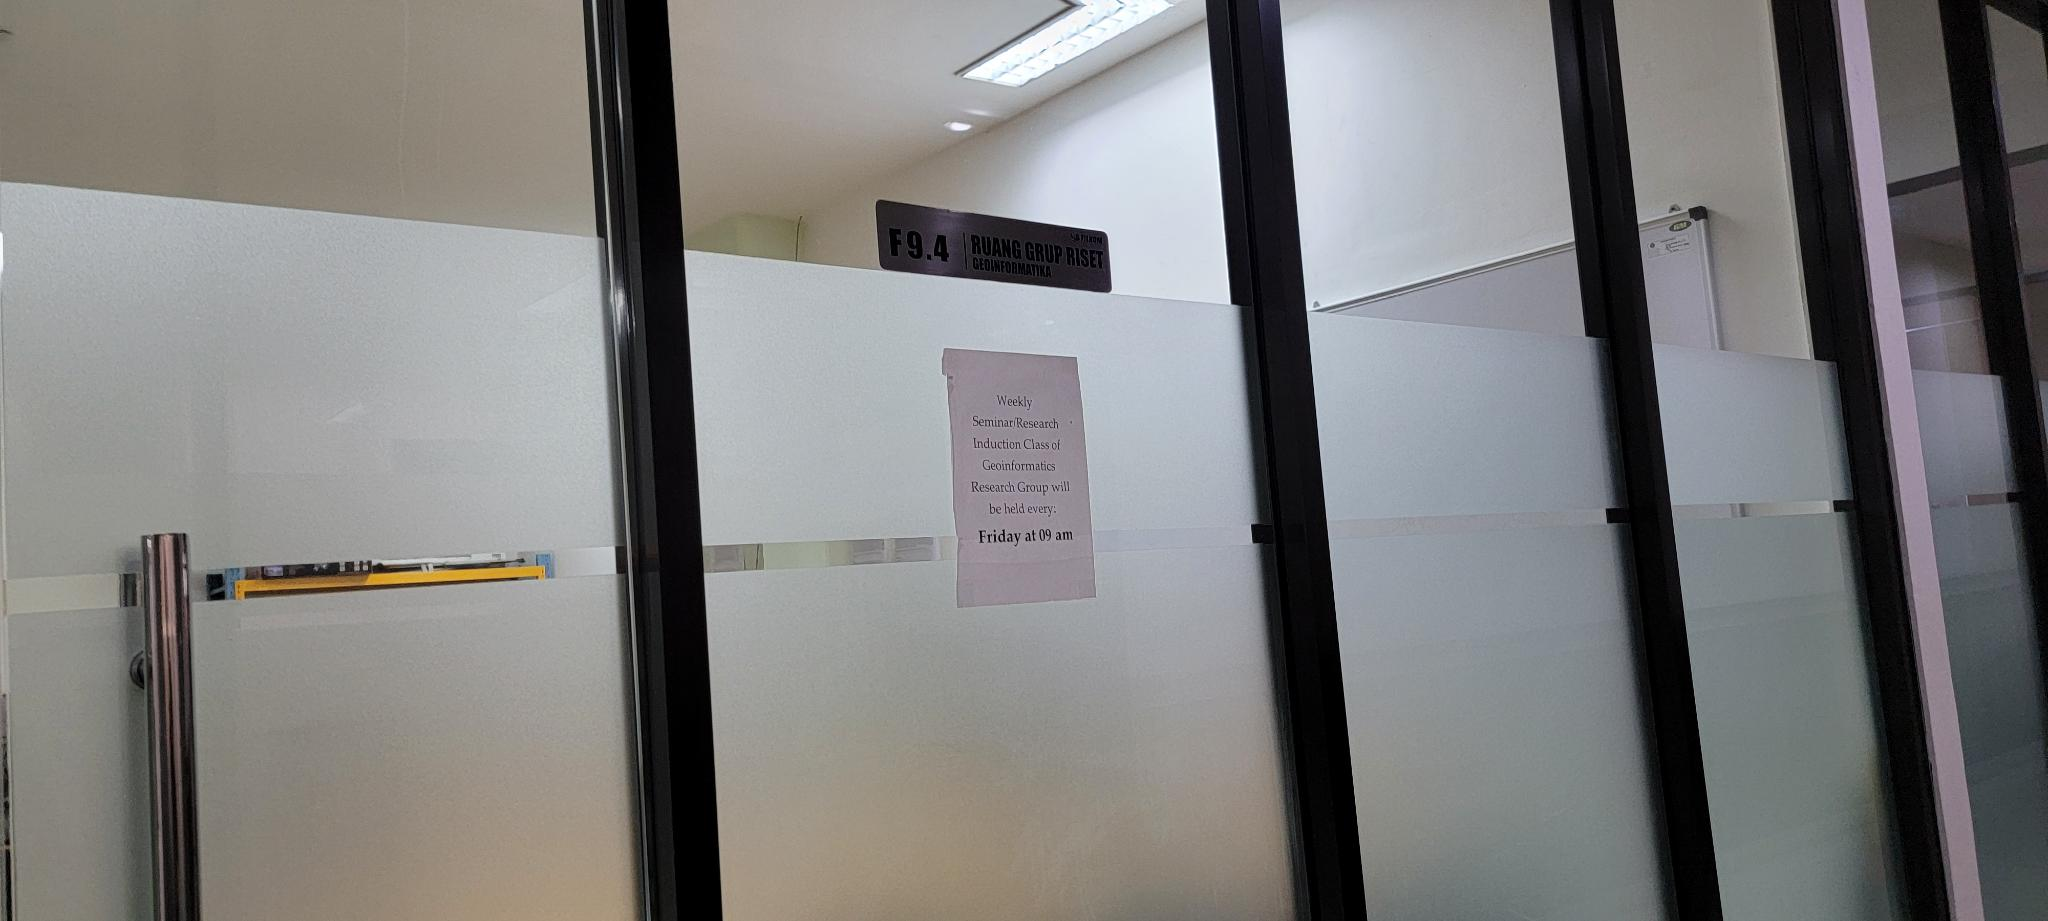plate: (875, 195, 1113, 295)
